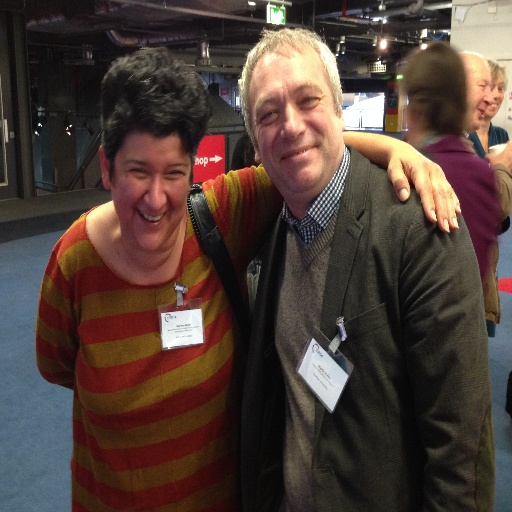hand: (368, 130, 478, 224), (483, 139, 511, 174)
